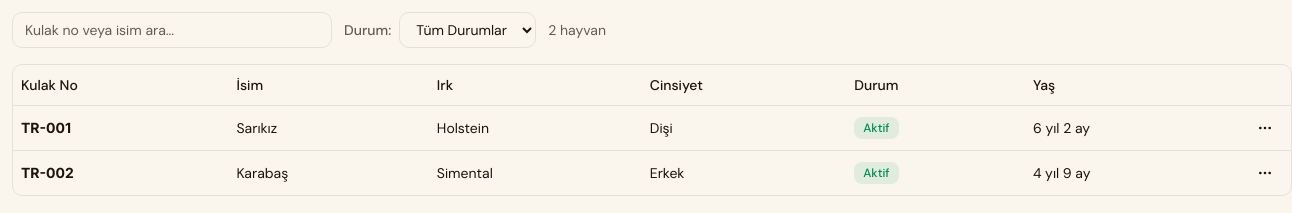
AnimalListClient › filters by search input
Type "Sarıkız" into the field with placeholder "Kulak no veya isim ara..." at (172, 30), box [12,12,332,48]
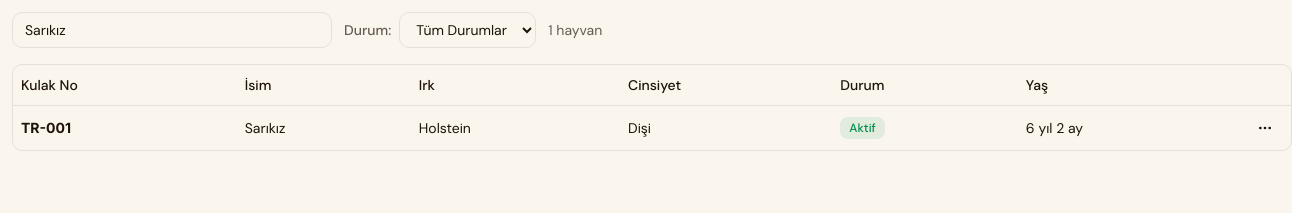
Expected: the text "Sarıkız" is shown, [237,105,411,150]
Now the text "Karabaş" is gone
